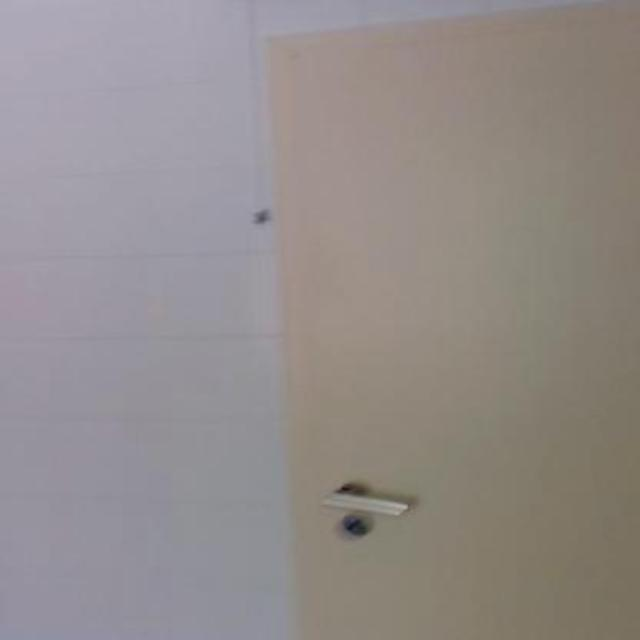door: (262, 0, 638, 638)
